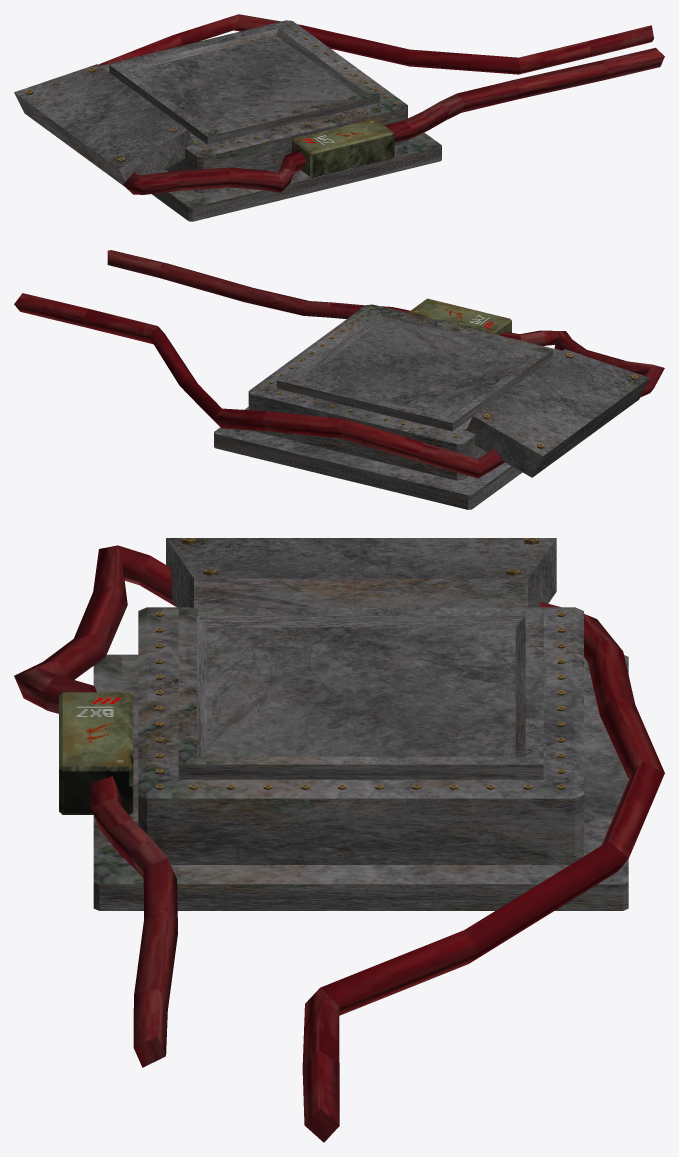
File: Shrine.fbx
The picture shows the model from 3 angles, top to bottom: view 1: azimuth 30°, elevation 25°; view 2: azimuth 150°, elevation 25°; view 3: azimuth 270°, elevation 25°; orthographic projection. The views are drawn at different scales.
Visible parts, largest first — view 1: Altar_plate, UI, Blood_tube_02, Blood_tube_01, Altar_body, Altar_ground, Tech; view 2: Altar_plate, UI, Blood_tube_01, Altar_body, Altar_ground, Blood_tube_02, Tech; view 3: Altar_plate, Altar_body, Altar_ground, UI, Blood_tube_01, Blood_tube_02, Tech.
Boxes of the visible parts, x1,y1,x2,y2 form: Altar_plate: (109, 23, 380, 144); UI: (14, 64, 193, 186); Blood_tube_02: (123, 47, 664, 194); Blood_tube_01: (99, 14, 653, 74); Altar_body: (100, 20, 407, 192); Altar_ground: (152, 132, 441, 221); Tech: (292, 119, 394, 177); Altar_plate: (276, 307, 552, 431); UI: (466, 349, 649, 477); Blood_tube_01: (14, 293, 504, 478); Altar_body: (248, 304, 561, 480); Altar_ground: (214, 407, 522, 509); Blood_tube_02: (107, 250, 664, 397); Tech: (408, 298, 511, 335); Altar_plate: (178, 607, 543, 779); Altar_body: (138, 607, 583, 864); Altar_ground: (93, 654, 628, 910); UI: (166, 538, 556, 607); Blood_tube_01: (302, 601, 664, 1142); Blood_tube_02: (14, 545, 177, 1067); Tech: (59, 692, 133, 814).
Bounding box in the file's own units: 3337 × 374 × 1753.
